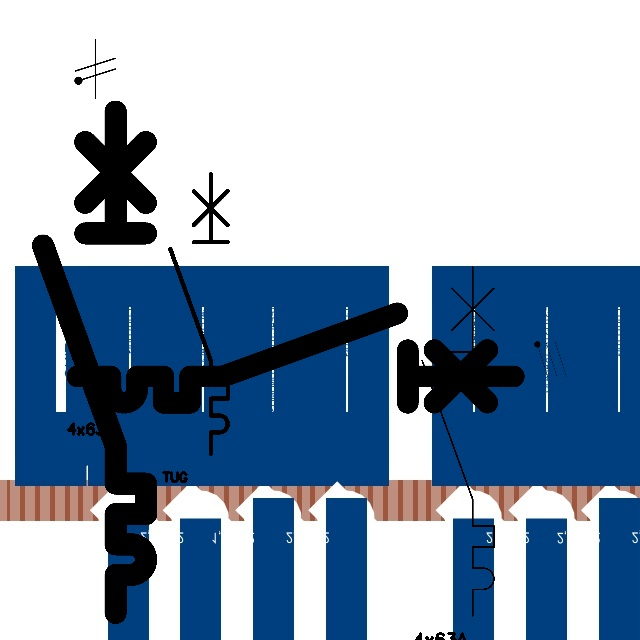interruptor_termomagnetico: (30, 98, 159, 626), (66, 302, 525, 414), (413, 258, 503, 625), (163, 167, 235, 461)
